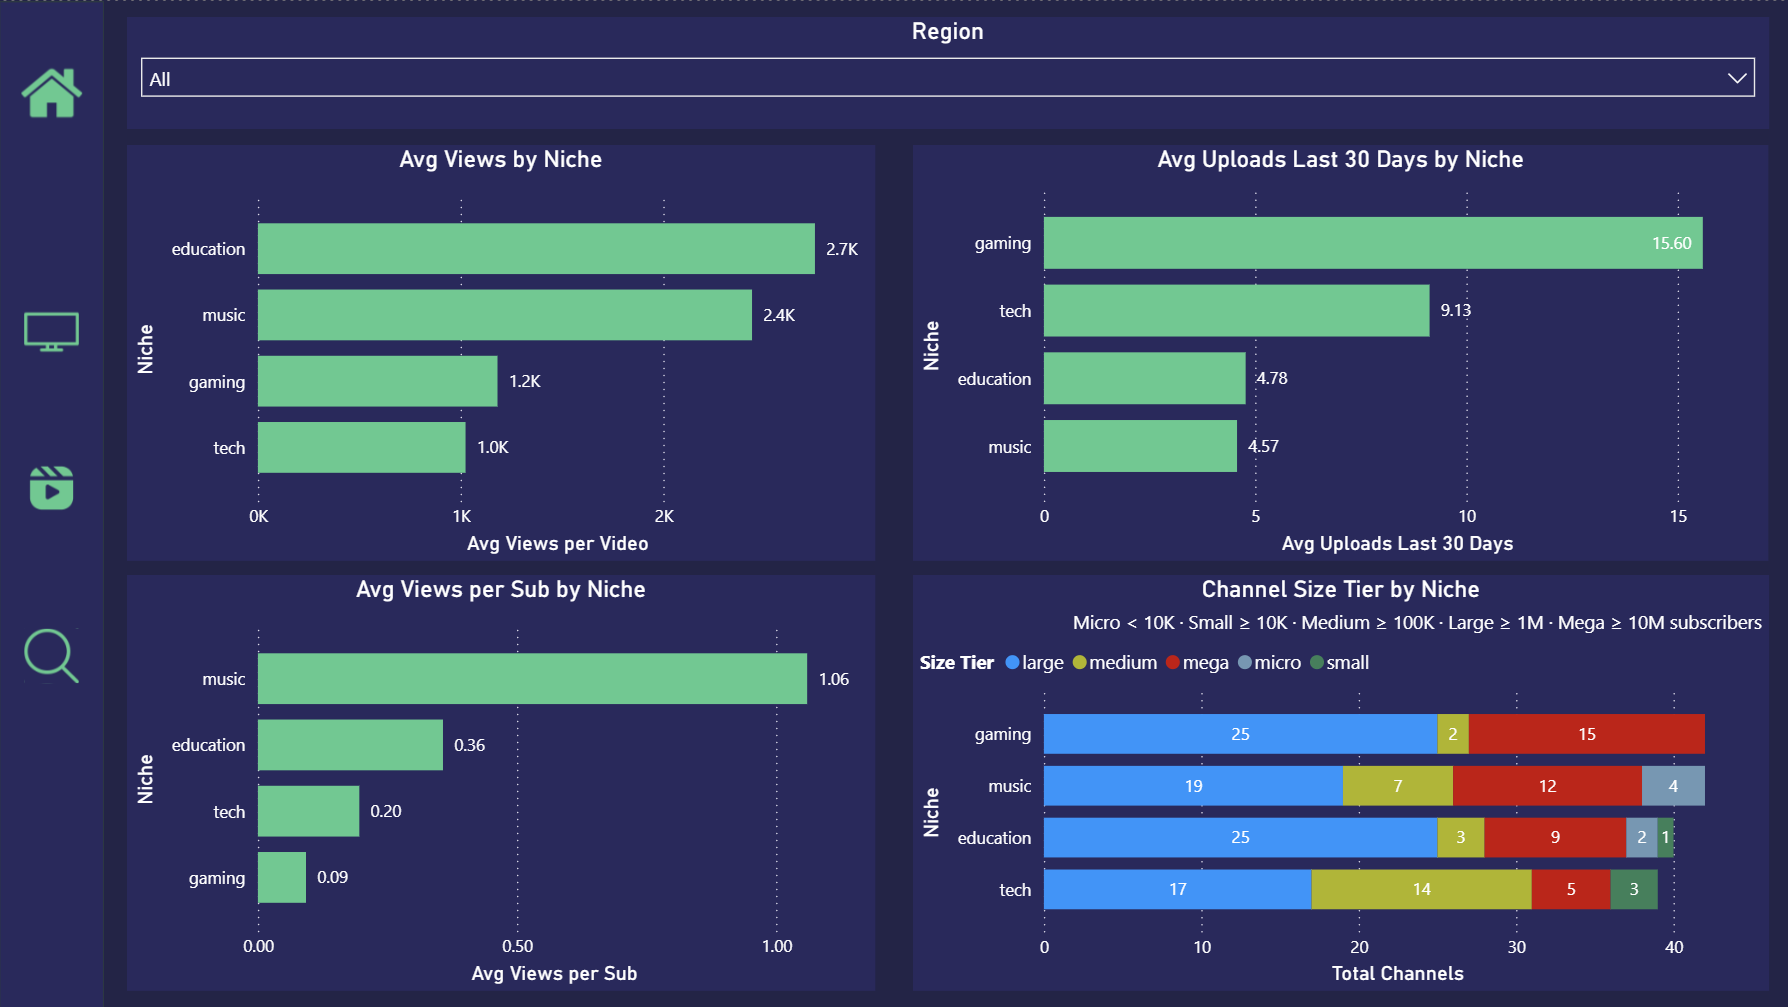

The dashboard page shown, as its layout file describes it:
{"tool":"powerbi","page":{"name":"Market Benchmark","canvas":[1280,720],"ordinal":1},"visuals":[{"type":"shape","box":[0,0,75.2,720.3],"z":0},{"type":"actionButton","box":[0,212.9,75.2,47.2],"z":1000},{"type":"actionButton","box":[0,323.8,75.2,47.2],"z":2000},{"type":"actionButton","box":[0,443.7,75.2,47.2],"z":3000},{"type":"clusteredBarChart","title":"Avg Views by Niche","fields":{"Y":["fct_video_performance.Avg Views per Video"],"Category":["dim_channels.niche"]},"box":[91.4,102.9,534.3,297.1],"z":4000},{"type":"clusteredBarChart","title":"Avg Views per Sub by Niche","fields":{"Category":["dim_channels.niche"],"Y":["agg_channel_metrics.Avg Views per Sub"]},"box":[91.4,410,534.3,297.1],"z":5000},{"type":"barChart","title":"Channel Size Tier by Niche","fields":{"Category":["dim_channels.niche"],"Series":["dim_channels.size_tier"],"Y":["fct_video_performance.Total Channels"]},"box":[652.9,410,611.4,297.1],"z":6000},{"type":"clusteredBarChart","title":"Avg Uploads Last 30 Days by Niche","fields":{"Category":["dim_channels.niche"],"Y":["Avg(agg_channel_metrics.videos_last_30d)"]},"box":[653,103,611,297],"z":7000},{"type":"slicer","title":"Region","fields":{"Values":["dim_channels.region"]},"box":[91.4,11.4,1172.9,80],"z":8000},{"type":"actionButton","box":[0,40,75.7,51.4],"z":8001}]}

Visuals, with their boxes on the page's 1280x720 design canvas (x1, y1, x2, y2). These are canvas units, not pixel positions in the 1788x1007 screenshot, which may show the page scaled, cropped or inside an application window:
shape: (left=0, top=0, right=75, bottom=720)
actionButton: (left=0, top=213, right=75, bottom=260)
actionButton: (left=0, top=324, right=75, bottom=371)
actionButton: (left=0, top=444, right=75, bottom=491)
"Avg Views by Niche" clusteredBarChart: (left=91, top=103, right=626, bottom=400)
"Avg Views per Sub by Niche" clusteredBarChart: (left=91, top=410, right=626, bottom=707)
"Channel Size Tier by Niche" barChart: (left=653, top=410, right=1264, bottom=707)
"Avg Uploads Last 30 Days by Niche" clusteredBarChart: (left=653, top=103, right=1264, bottom=400)
"Region" slicer: (left=91, top=11, right=1264, bottom=91)
actionButton: (left=0, top=40, right=76, bottom=91)
